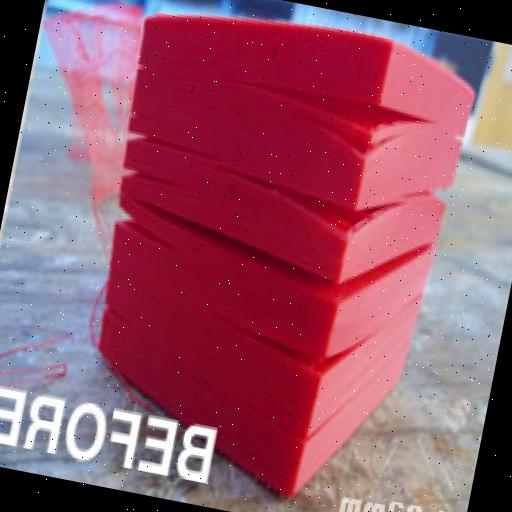cracks: (224, 61, 440, 184), (233, 172, 421, 277), (226, 307, 390, 412), (70, 178, 215, 260), (112, 120, 202, 170)
